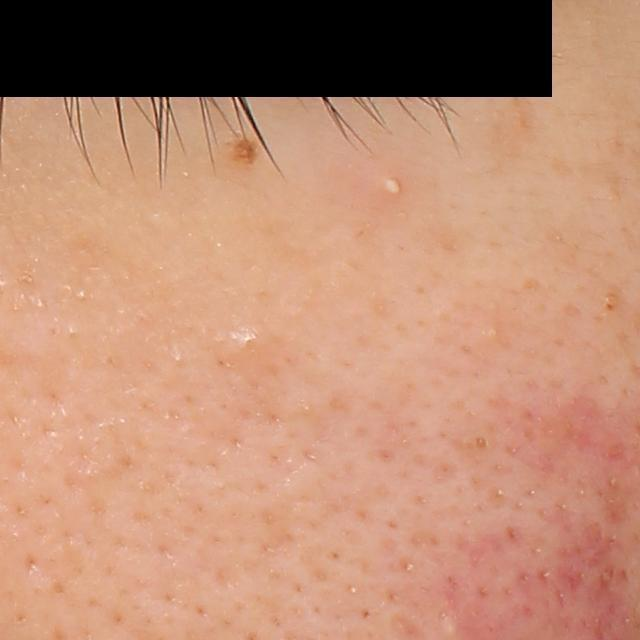comedo: (221, 321, 280, 364), (466, 433, 492, 453), (480, 323, 499, 340)
melasma: (228, 216, 331, 275), (488, 94, 533, 161), (62, 225, 129, 269), (425, 217, 482, 264)
nevus: (227, 136, 265, 170)
pustule: (366, 165, 409, 205)
